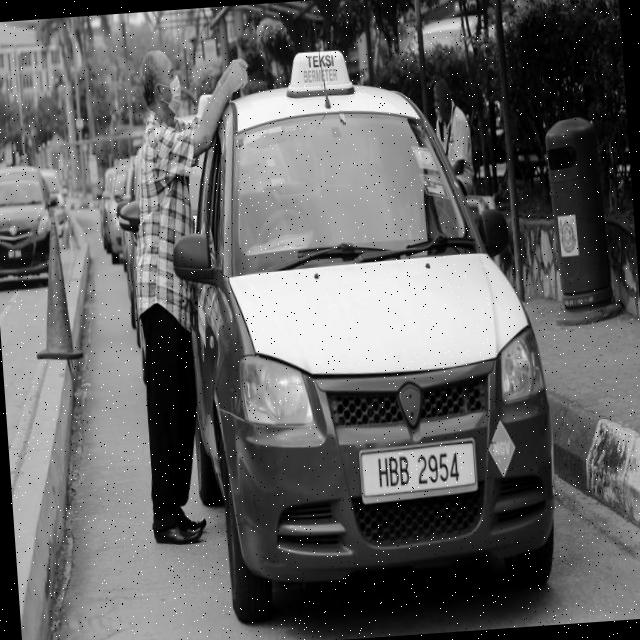License_Plate: (360, 439, 480, 502)
car: (161, 32, 566, 621)
